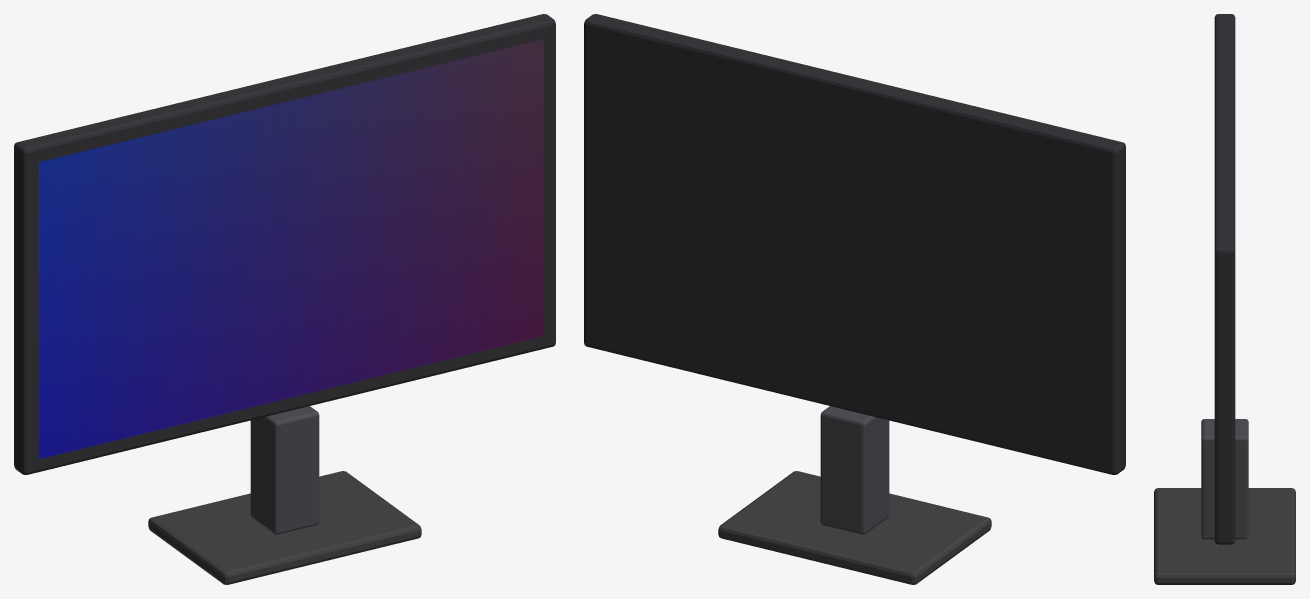
File: portfolio_monitor.glb
The picture shows the model from 3 angles, left to right: view 1: azimuth 30°, elevation 25°; view 2: azimuth 150°, elevation 25°; view 3: azimuth 270°, elevation 25°; orthographic projection. The views are drawn at different scales.
Visible parts, largest first — view 1: Monitor_Screen, Monitor_Body, Monitor_Stand_Base, Monitor_Stand_Neck; view 2: Monitor_Body, Monitor_Stand_Base, Monitor_Stand_Neck; view 3: Monitor_Body, Monitor_Stand_Base, Monitor_Stand_Neck.
Part boxes in pixels (x1,y1,x2,y2): Monitor_Screen: [39, 39, 543, 459]; Monitor_Body: [14, 14, 555, 474]; Monitor_Stand_Base: [148, 471, 421, 584]; Monitor_Stand_Neck: [250, 406, 319, 534]; Monitor_Body: [584, 14, 1125, 474]; Monitor_Stand_Base: [718, 471, 991, 584]; Monitor_Stand_Neck: [820, 406, 889, 534]; Monitor_Body: [1214, 14, 1235, 544]; Monitor_Stand_Base: [1154, 488, 1295, 584]; Monitor_Stand_Neck: [1201, 419, 1248, 539].
Size of the model in its own units: 0.592 by 0.481 by 0.15.
Materials: 4 (1 with a texture image).
